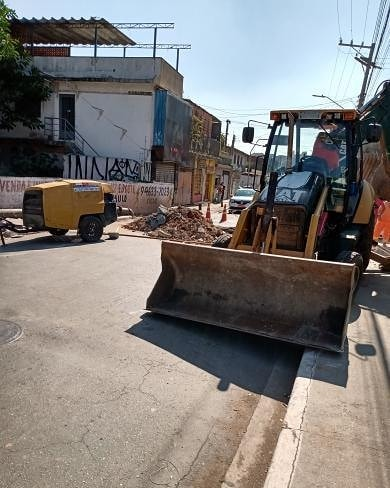building: (1, 66, 184, 204), (183, 105, 222, 206)
sky: (193, 1, 390, 128)
street: (1, 228, 309, 488)
tractor: (159, 98, 384, 341)
